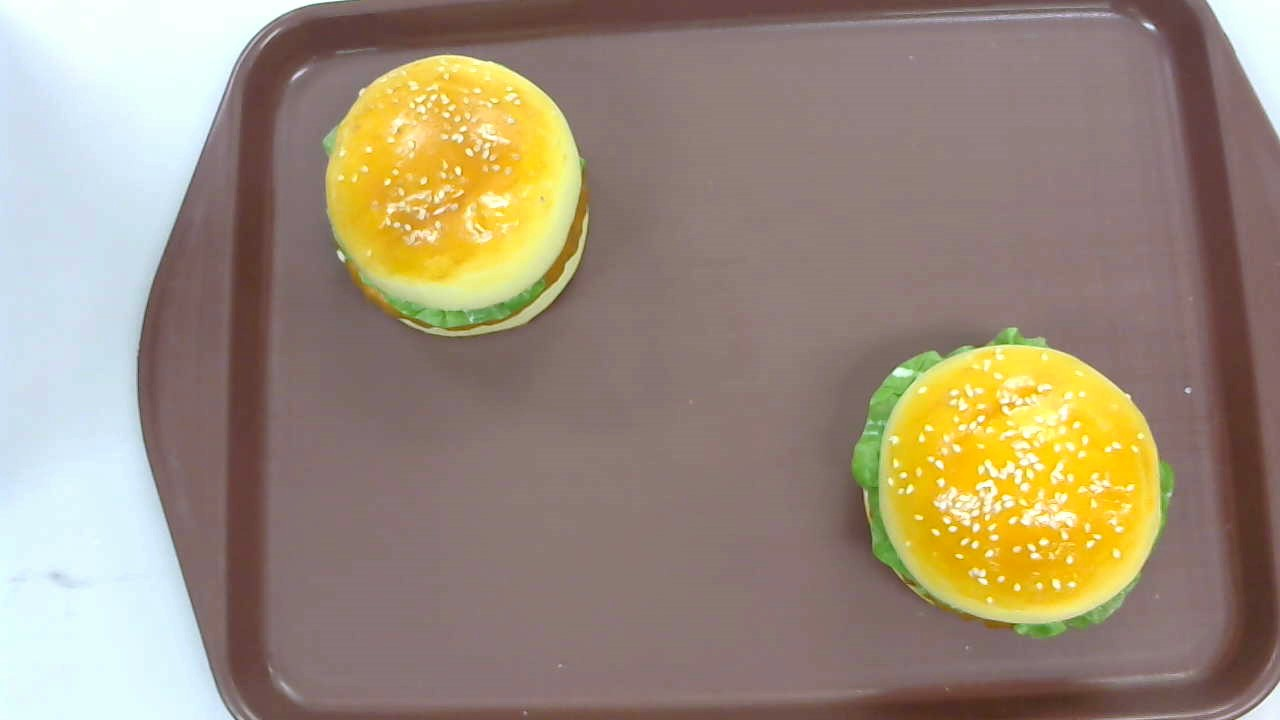hamburger: (850, 329, 1172, 641), (321, 53, 591, 340)
